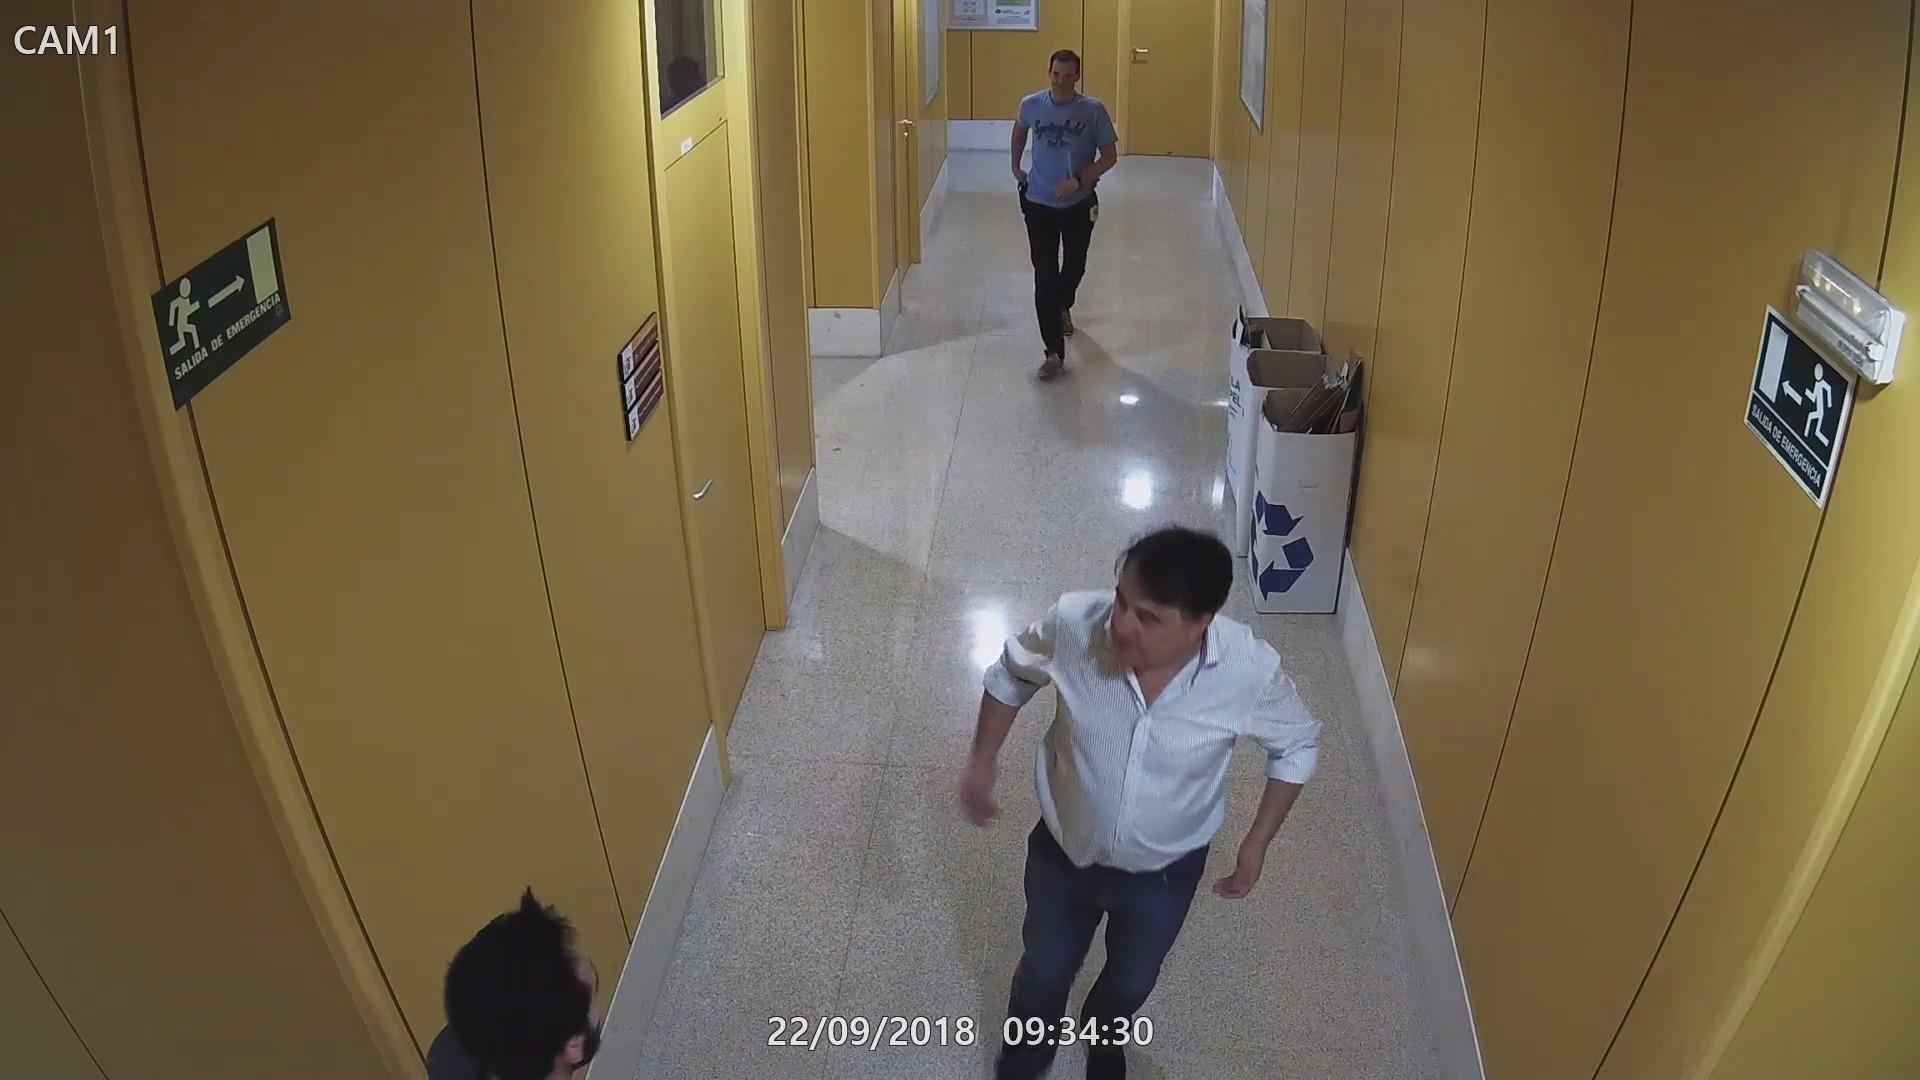Handgun: (1006, 175, 1033, 218)
